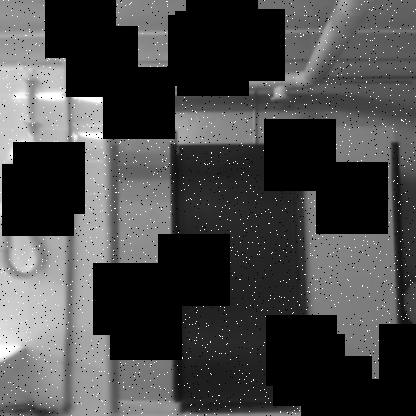Porte: (170, 141, 316, 404)
